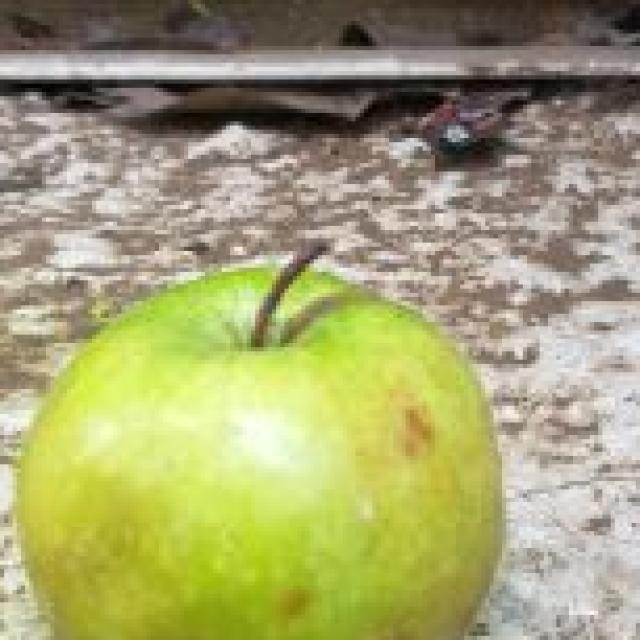Good_Apple 10-21 days: (15, 266, 504, 640)
